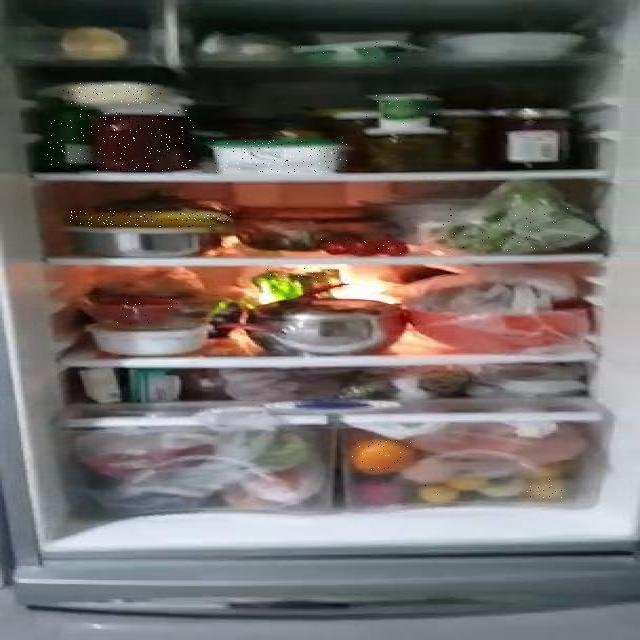banana: (70, 211, 232, 227)
cheese: (209, 140, 347, 173), (63, 82, 166, 105)
cream cheese: (295, 42, 417, 61)
lemon: (526, 479, 566, 498), (419, 484, 461, 501)
lettuce: (442, 208, 595, 253)
mineral water: (46, 102, 92, 170), (257, 268, 336, 292)
orange: (347, 439, 412, 471)
tomato: (99, 297, 180, 324), (318, 239, 406, 254)
tomato paste: (97, 109, 194, 171)
yoghurt: (366, 94, 436, 126)
